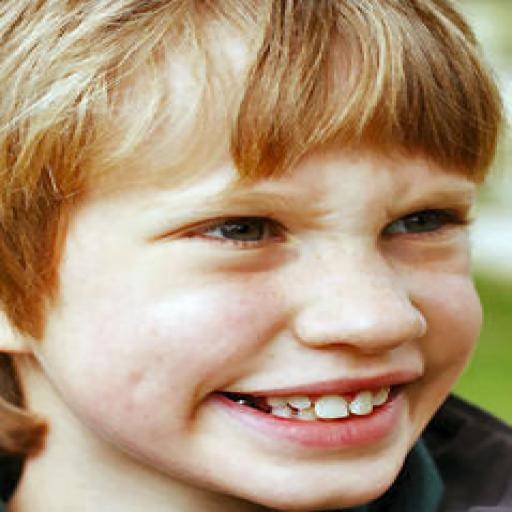Autism: (11, 12, 512, 491)
